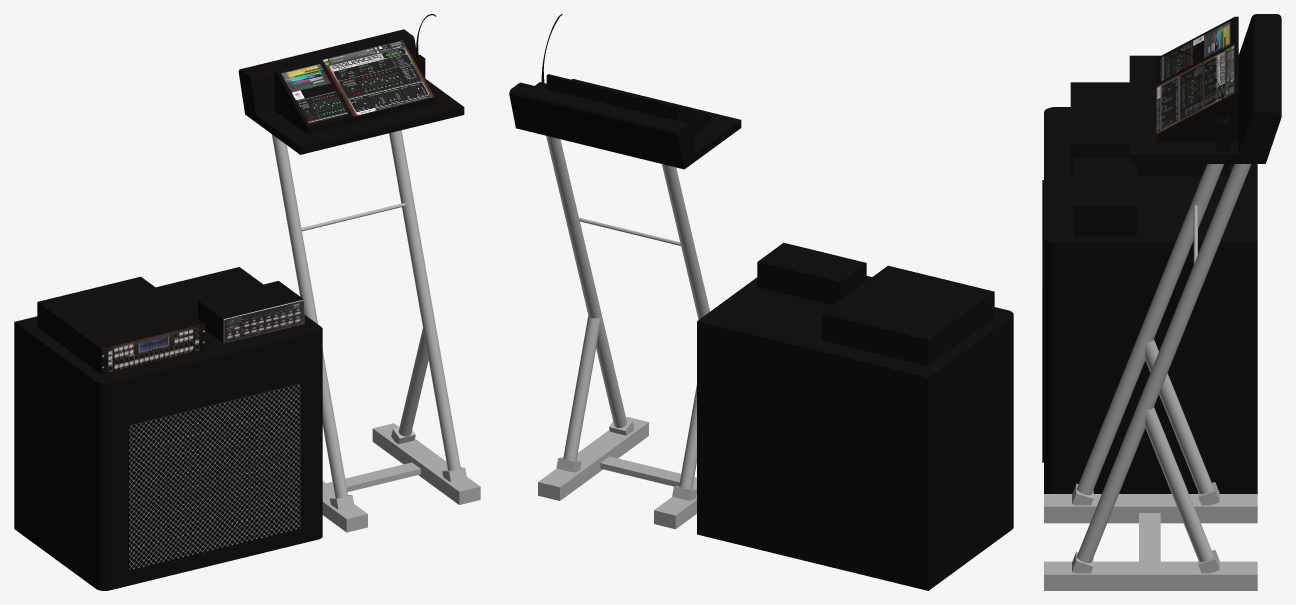
The model's file is mixer.glb.
3 views of the same model, side by side, from view 1: azimuth 30°, elevation 25°; view 2: azimuth 150°, elevation 25°; view 3: azimuth 270°, elevation 25° (orthographic). The views are drawn at different scales.
Visible parts, largest first — view 1: Object_9, Object_3, Object_8, Object_4, Object_5, Object_6, Object_2; view 2: Object_9, Object_8; view 3: Object_9, Object_8, Object_4, Object_2.
Boxes of the visible parts, <box> form: Object_9: <box>14,14,464,590</box>; Object_3: <box>129,383,300,570</box>; Object_8: <box>272,130,480,532</box>; Object_4: <box>296,40,434,123</box>; Object_5: <box>101,324,205,374</box>; Object_6: <box>223,299,304,343</box>; Object_2: <box>281,64,330,92</box>; Object_9: <box>509,14,1013,590</box>; Object_8: <box>538,135,709,529</box>; Object_9: <box>1042,14,1281,493</box>; Object_8: <box>1044,164,1257,590</box>; Object_4: <box>1156,41,1234,134</box>; Object_2: <box>1204,21,1230,58</box>.
Size of the model in its own units: 1.13 by 1.2 by 0.4771.
Materials: 8 (6 with a texture image).
